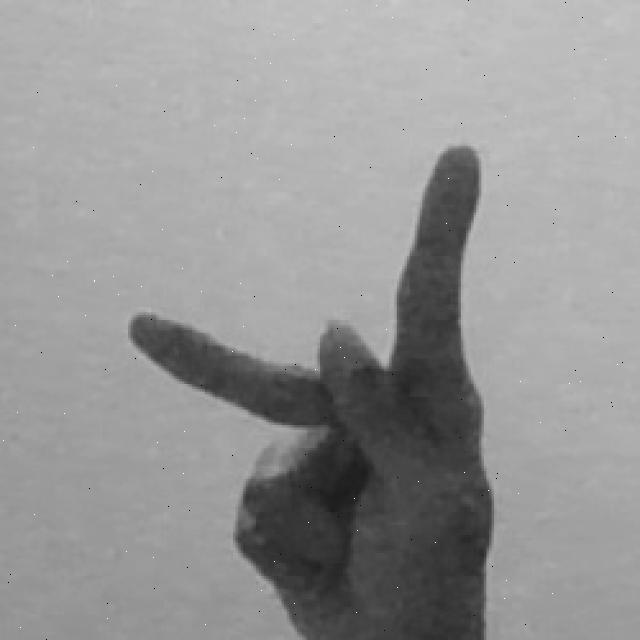K: (121, 140, 505, 640)
